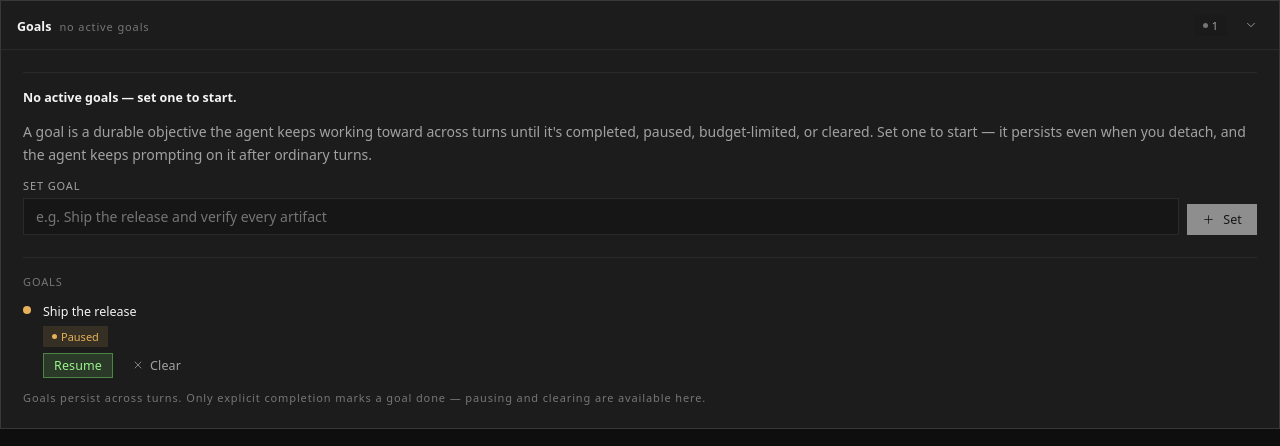
Test: GoalsPanel › resumes a paused goal
The image size is (1280, 446).
Click the button "Resume" at (78, 365), box [43,353,113,378]
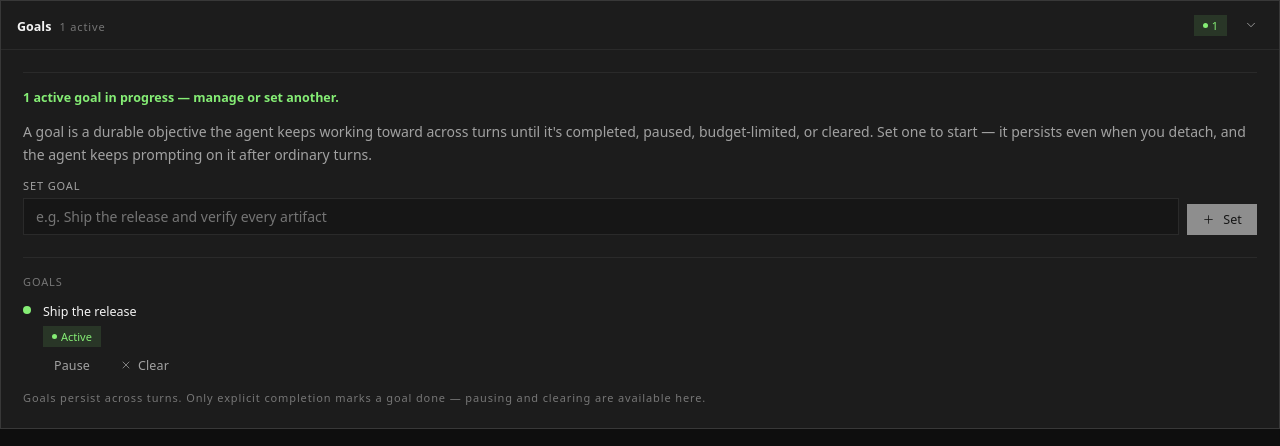
Expected: the button "Pause" is shown, [43,353,101,378]
